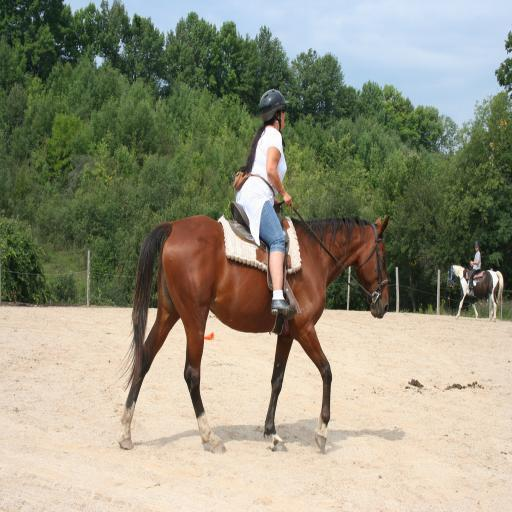horse: (118, 216, 392, 456), (446, 264, 504, 322)
